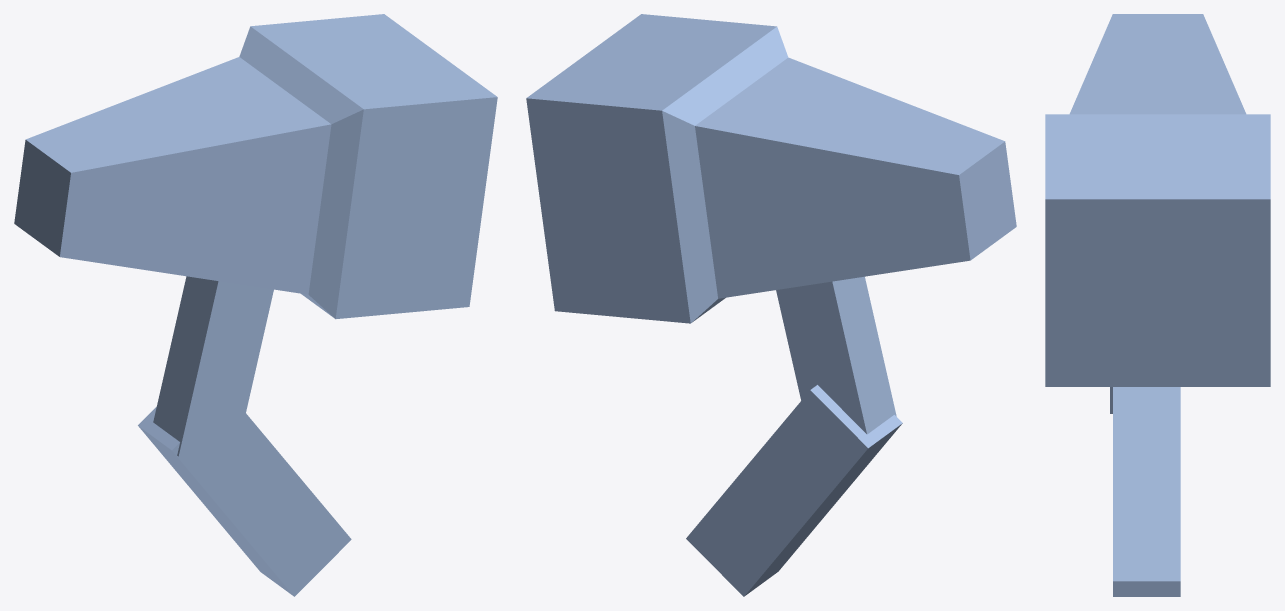
Rendered from hammer.fbx.
The picture shows the model from 3 angles, left to right: view 1: azimuth 30°, elevation 25°; view 2: azimuth 150°, elevation 25°; view 3: azimuth 270°, elevation 25°; orthographic projection. The views are drawn at different scales.
Visible parts, largest first — view 1: Hammer; view 2: Hammer; view 3: Hammer.
Part boxes in pixels (left/top/right/bottom): Hammer: left=14, top=14, right=497, bottom=596; Hammer: left=526, top=14, right=1016, bottom=596; Hammer: left=1045, top=14, right=1270, bottom=596.
Size of the model in its own units: 228 by 272 by 111.
